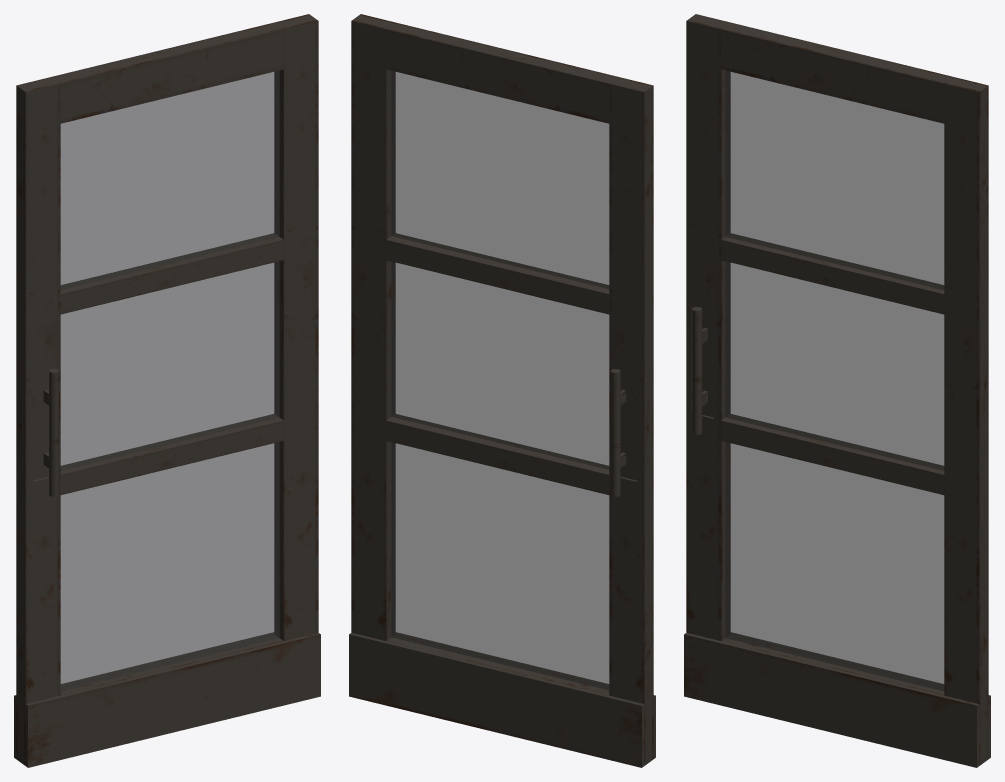
Rendered from Door_3.gltf.
3 views of the same model, side by side, from view 1: azimuth 30°, elevation 25°; view 2: azimuth 150°, elevation 25°; view 3: azimuth 330°, elevation 25° (orthographic).
Visible parts, largest first — view 1: Door_3; view 2: Door_3; view 3: Door_3.
Part boxes in pixels (left/top/right/bottom): Door_3: left=14, top=14, right=320, bottom=767; Door_3: left=349, top=14, right=655, bottom=767; Door_3: left=684, top=14, right=990, bottom=767.
Bounding box in the file's own units: 1 × 2.2 × 0.1883.
Materials: 2 (1 with a texture image).
